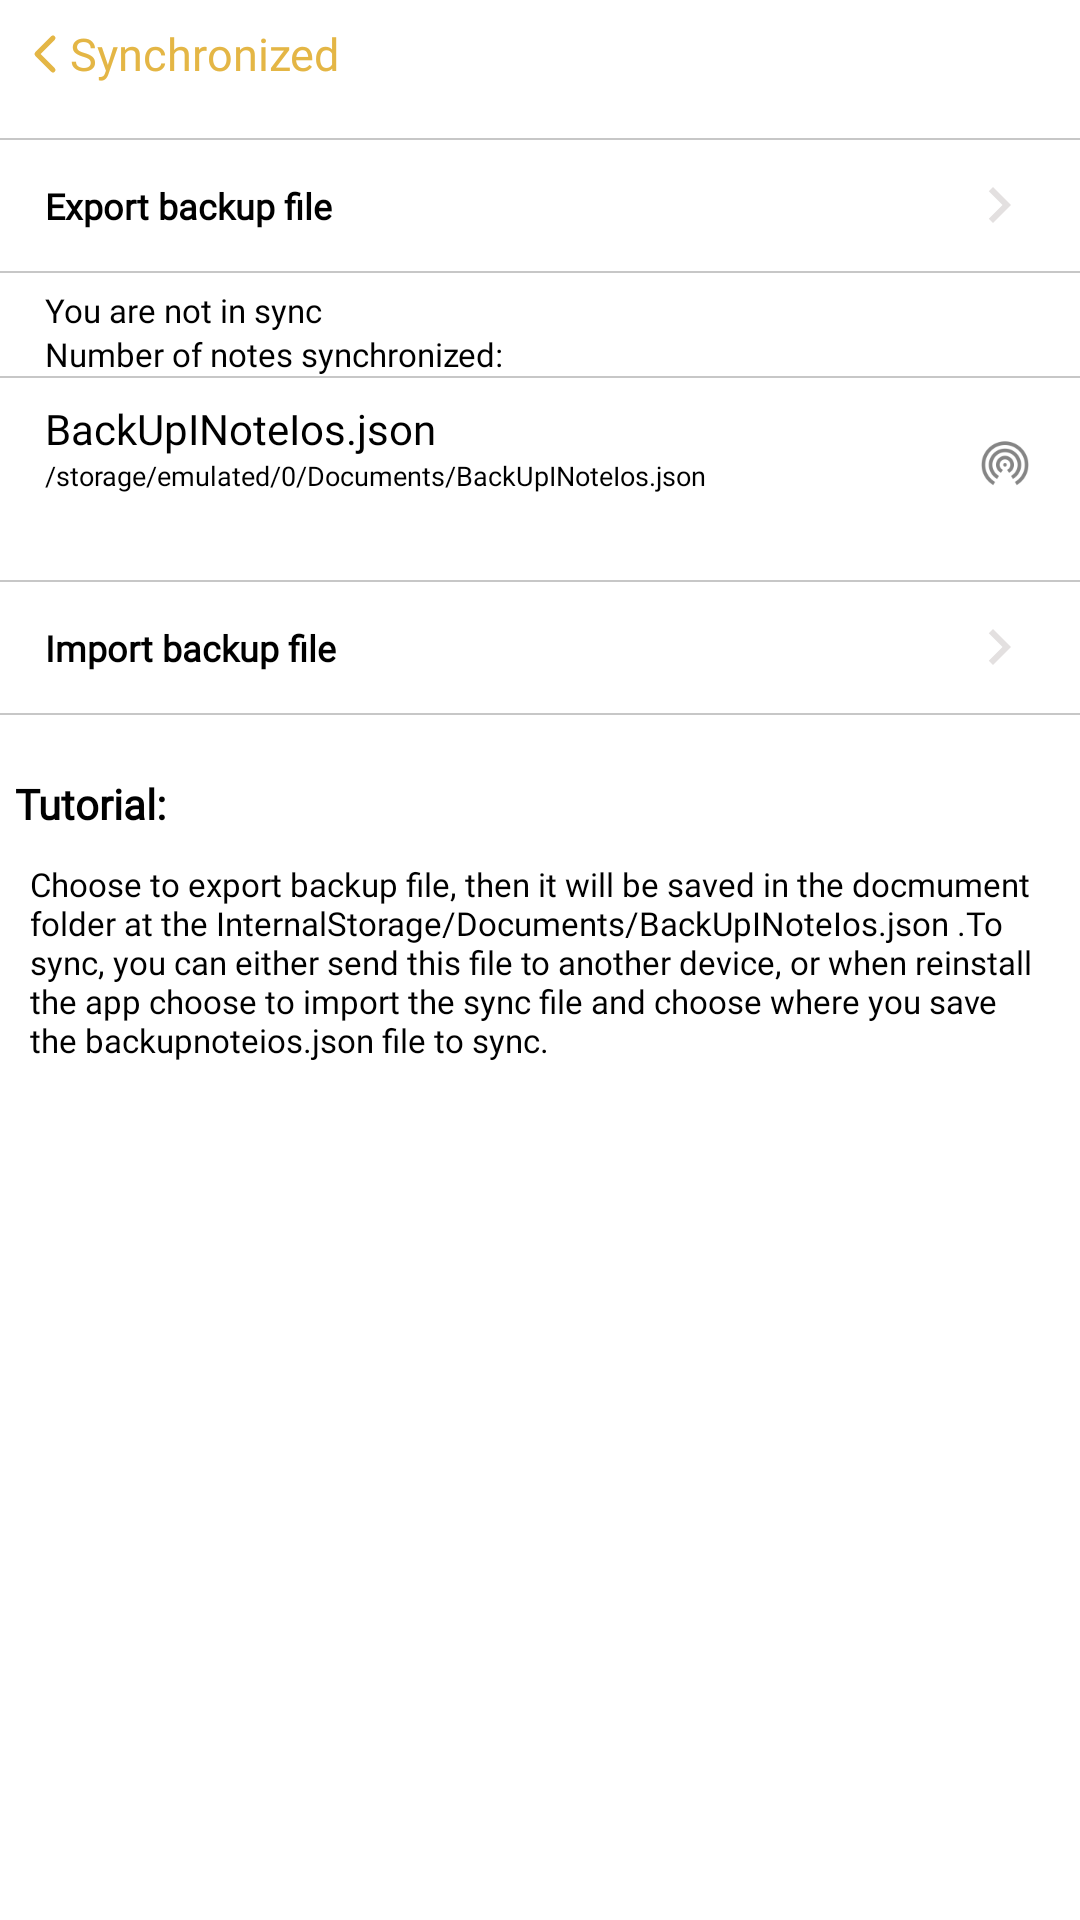

Where to tap for icons on this 1080×1920 app screen, as [x,y]:
next: [999,205], [999,647]
